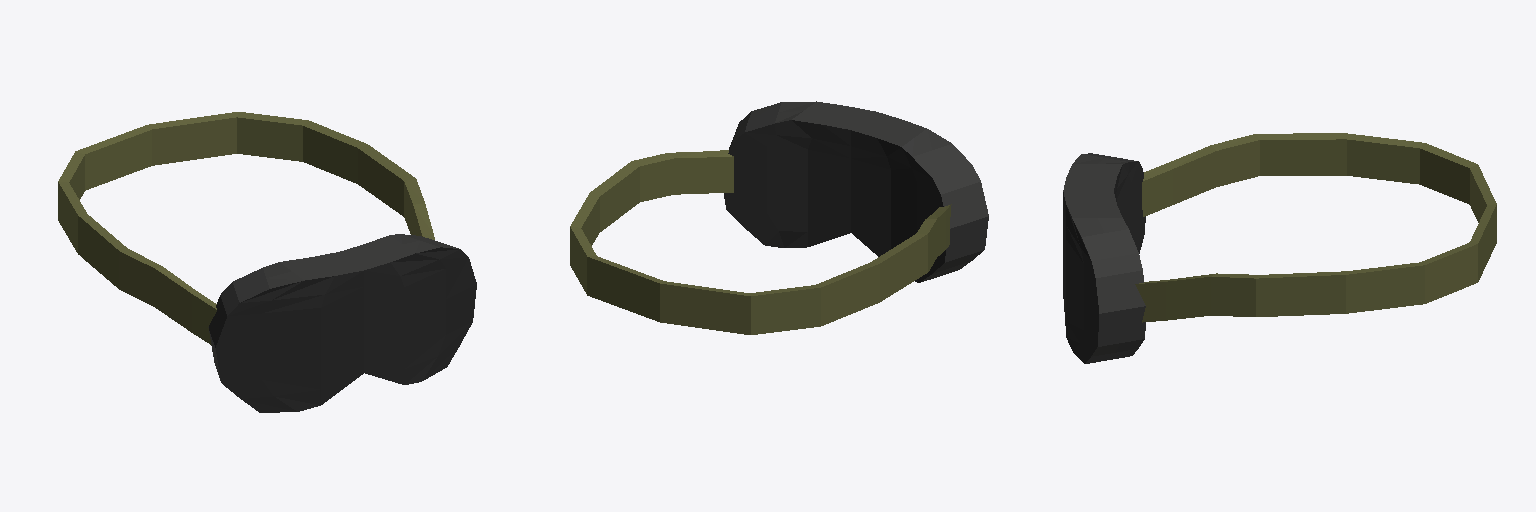
3 renders of one model, left to right at view 1: azimuth 30°, elevation 25°; view 2: azimuth 150°, elevation 25°; view 3: azimuth 270°, elevation 25°, orthographic.
Parts seen in each view (by area): view 1: Circle; view 2: Circle; view 3: Circle.
Boxes of the visible parts, x1=… form: Circle: x1=58, y1=112, x2=476, y2=412; Circle: x1=570, y1=101, x2=988, y2=334; Circle: x1=1063, y1=133, x2=1496, y2=363.
Size of the model in its own units: 0.0012 by 0.0005 by 0.0015.
Materials: 1 (1 with a texture image).